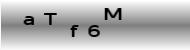6: (87, 25, 101, 38)
M: (103, 7, 122, 20)
T: (42, 11, 58, 25)
a: (22, 15, 35, 25)
f: (70, 24, 79, 37)
